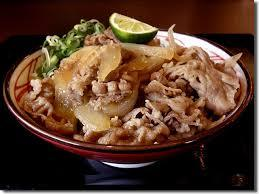niku: (5, 12, 256, 174)
